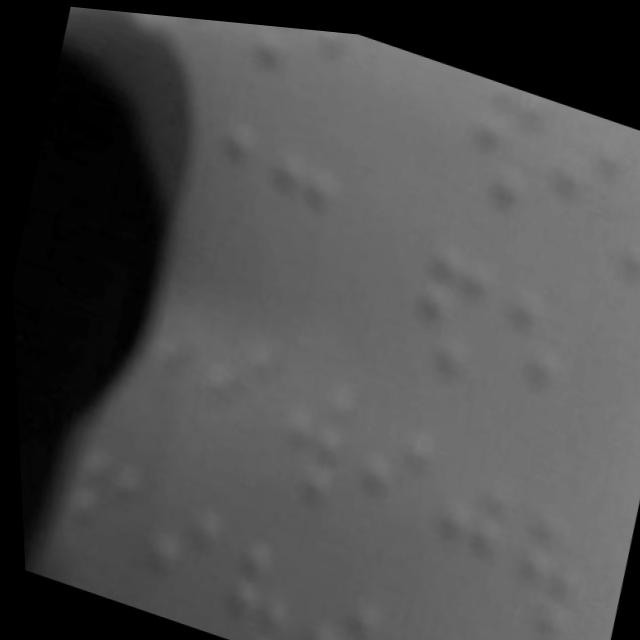braiile: (230, 129, 348, 313), (383, 221, 498, 405), (400, 448, 518, 621), (167, 308, 285, 481), (459, 264, 572, 437), (246, 351, 361, 519), (327, 399, 440, 567), (446, 64, 554, 224), (528, 107, 632, 271), (478, 488, 588, 640), (120, 479, 224, 628), (598, 153, 640, 293)
